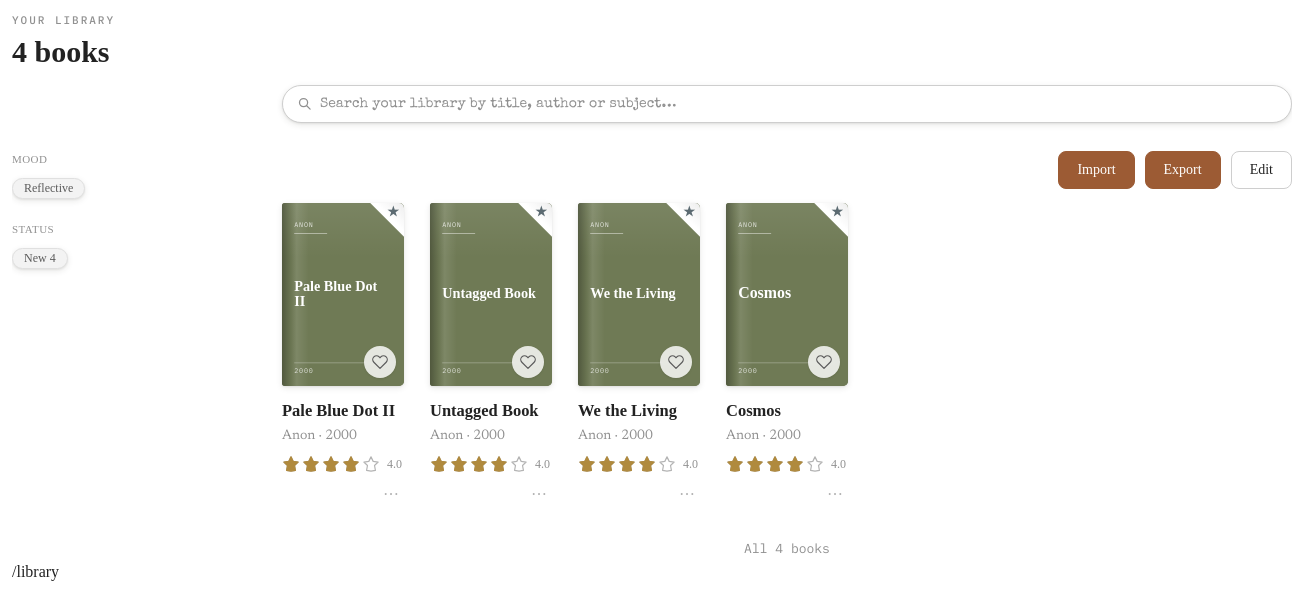
Scenario: LibraryPage › mood and theme filters › filters the grid when a mood pill is picked
Click the button "Reflective": (49, 188) x1=12 y1=178 x2=85 y2=199
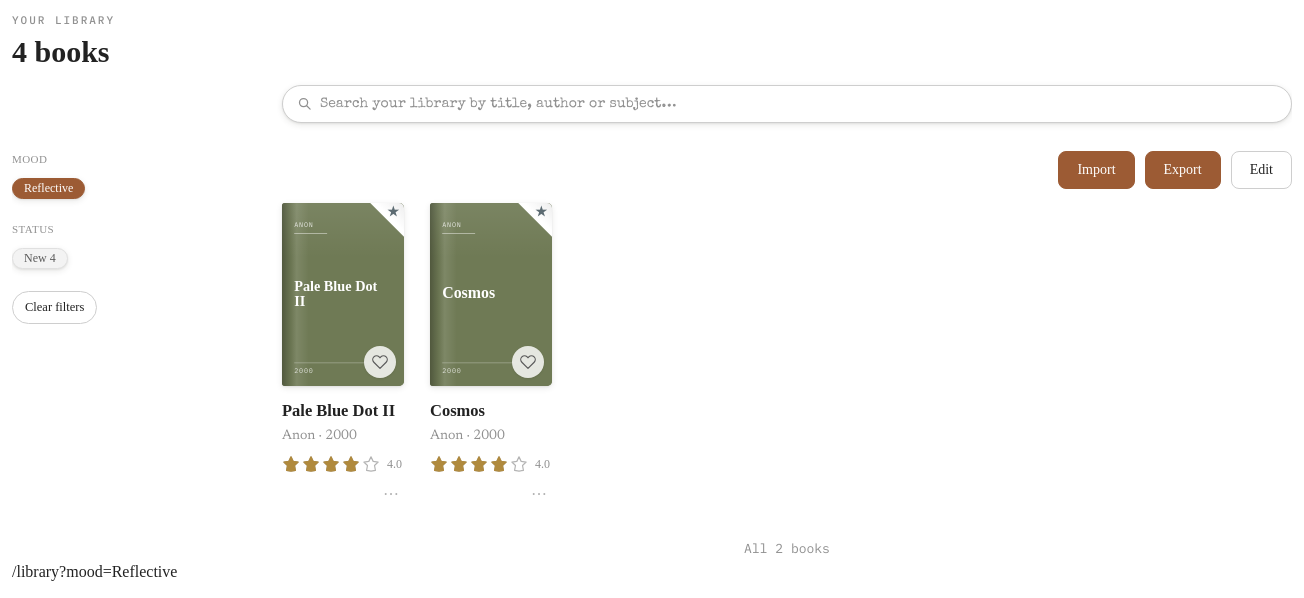
expect the button "ANON Cosmos 2000 ★ Cosmos Anon · 2000 4.0" is shown: met, box x1=430 y1=203 x2=552 y2=473
expect the button "We the Living" is gone: met
expect the button "Untagged Book" is gone: met
Click the button "Reflective": (49, 188) x1=12 y1=178 x2=85 y2=199
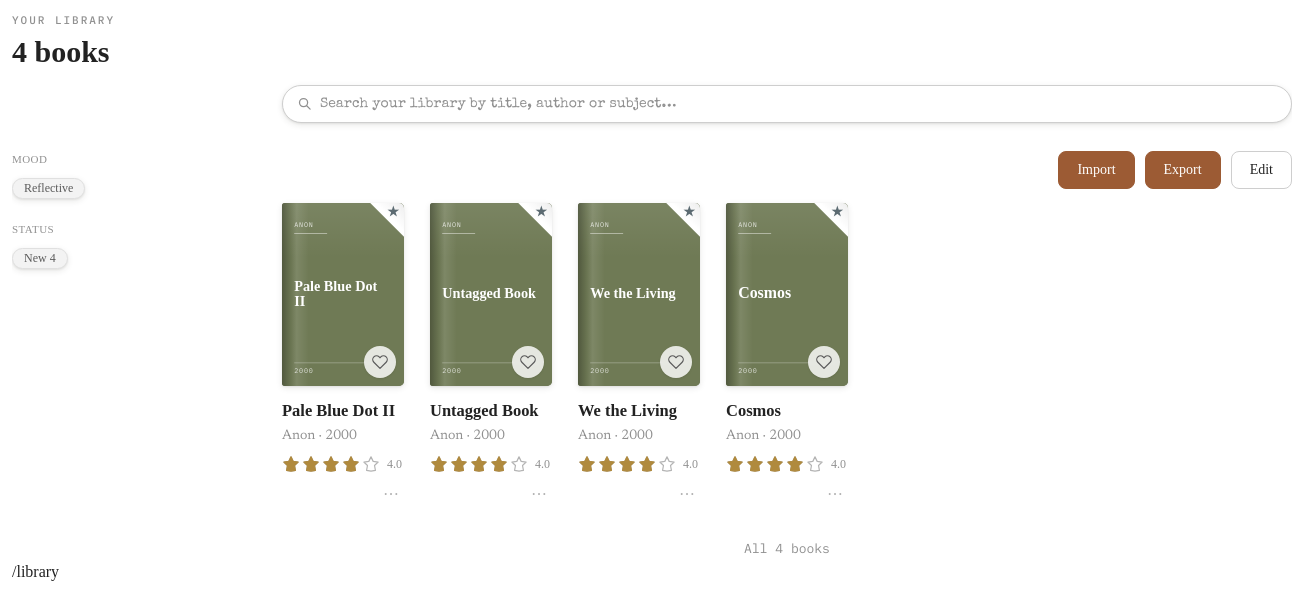
expect the button "ANON Untagged Book 2000 ★ Untagged Book Anon · 2000 4.0" is shown: met, box x1=430 y1=203 x2=552 y2=473
